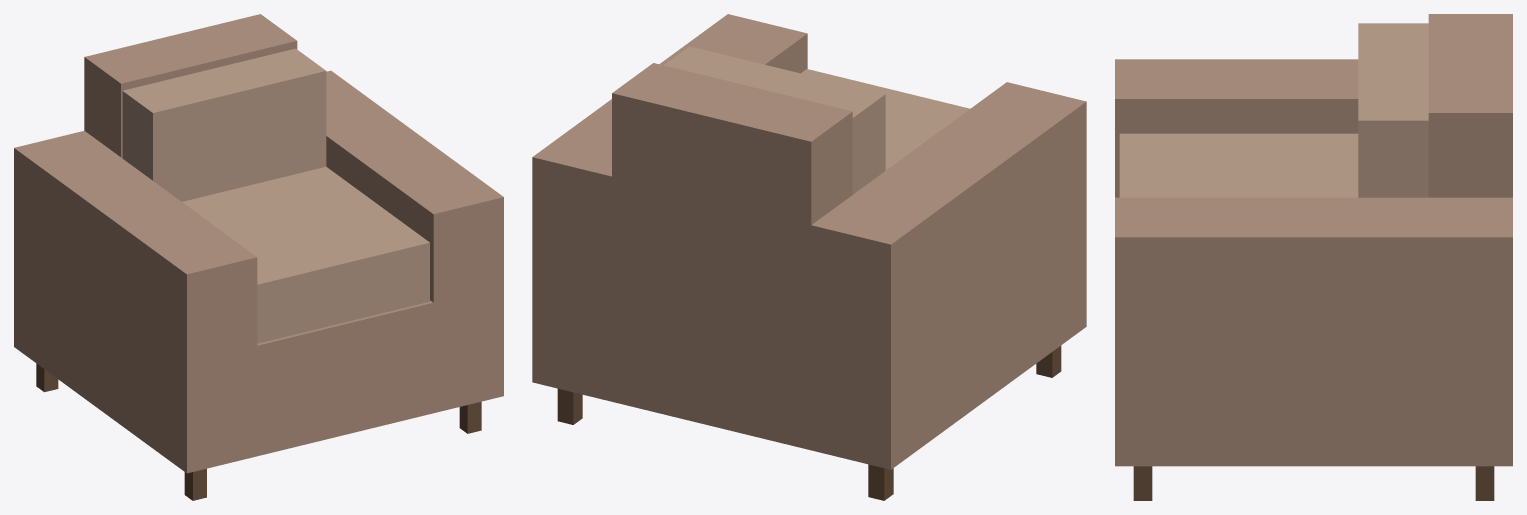
3 views of the same model, side by side, from view 1: azimuth 30°, elevation 25°; view 2: azimuth 150°, elevation 25°; view 3: azimuth 270°, elevation 25° (orthographic). The views are drawn at different scales.
Parts seen in each view (by area): view 1: Frame, SeatCushions, BackCushions, Legs; view 2: Frame, BackCushions, SeatCushions, Legs; view 3: Frame, SeatCushions, BackCushions, Legs.
Part boxes in pixels (x1,y1,x2,y2): Frame: (14,14,503,473); SeatCushions: (182,166,429,343); BackCushions: (122,48,326,201); Legs: (36,363,481,500); Frame: (532,14,1086,469); BackCushions: (664,46,885,194); SeatCushions: (801,69,969,170); Legs: (557,345,1061,500); Frame: (1115,14,1512,466); SeatCushions: (1119,133,1358,197); BackCushions: (1358,23,1428,197); Legs: (1133,466,1494,500).
Bounding box in the file's own units: 0.9 × 0.84 × 0.85.
